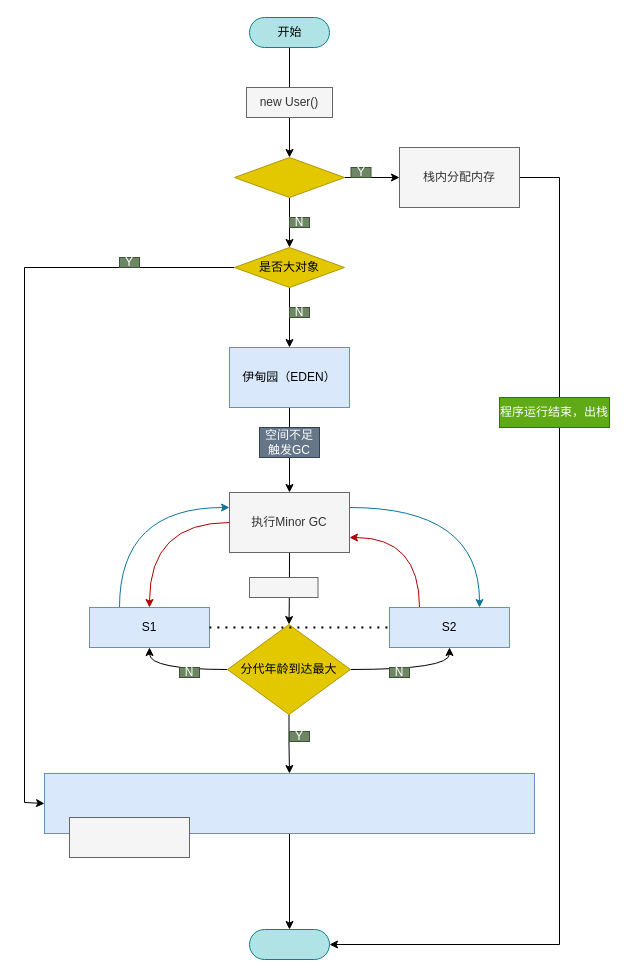
Some shapes in this 627 by 977 pixel diagram are drawn without their labels. Each missing label, with the centre of its shape:
分代年龄加1: point 283,587
栈内分配: point 289,177
结束: point 289,944
老年代空间不足时，触发Full GC: point 129,837
老年代（OLD）: point 289,803
